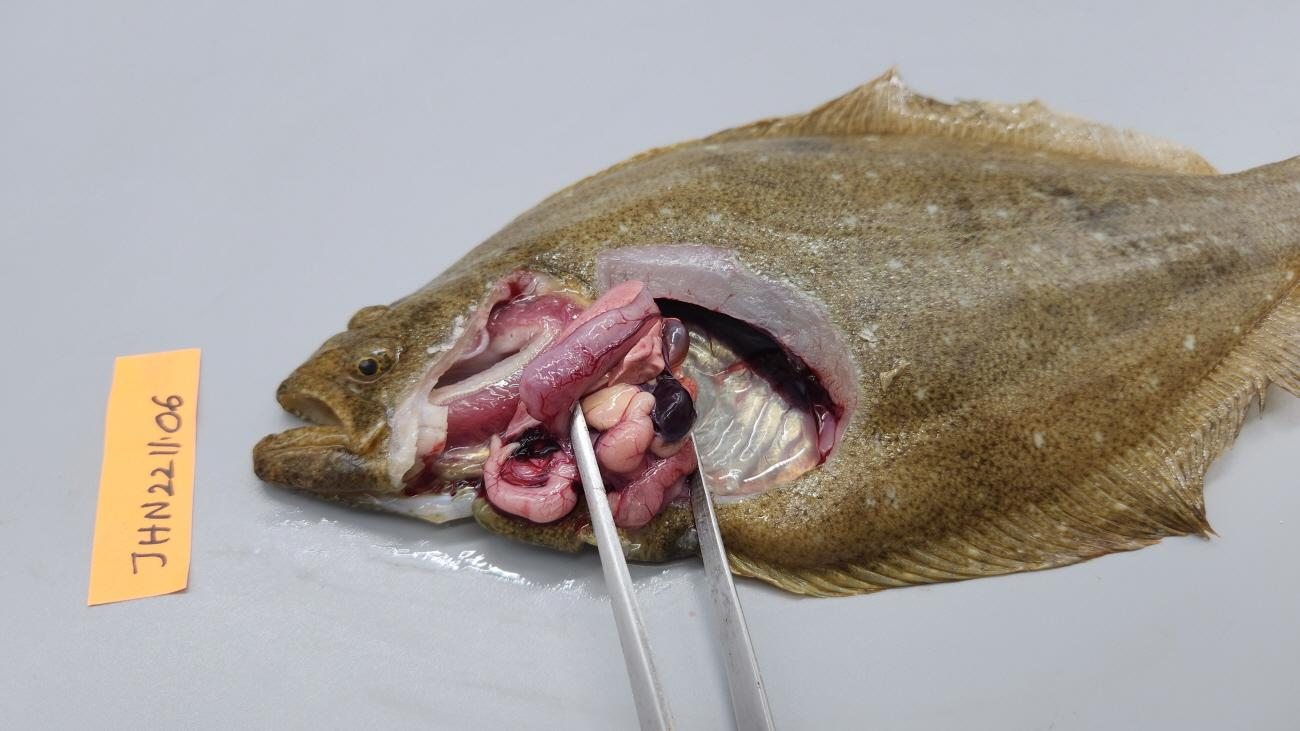POINN: (595, 390, 696, 527)
POSPN: (651, 378, 694, 443)
